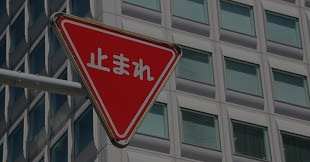Regulatory_sign_triangle: (54, 10, 182, 145)
